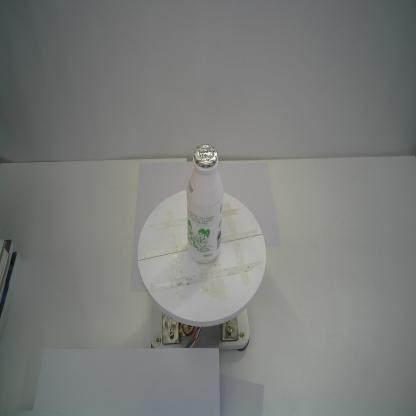Milk: (185, 142, 225, 264)
